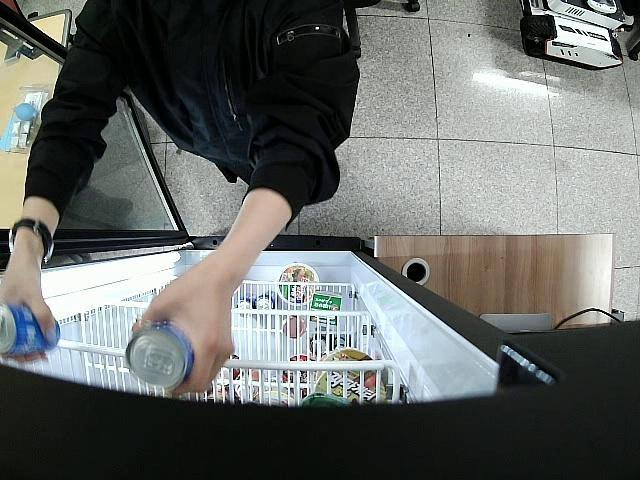15_letsbe: (124, 324, 193, 390), (0, 303, 59, 354)
